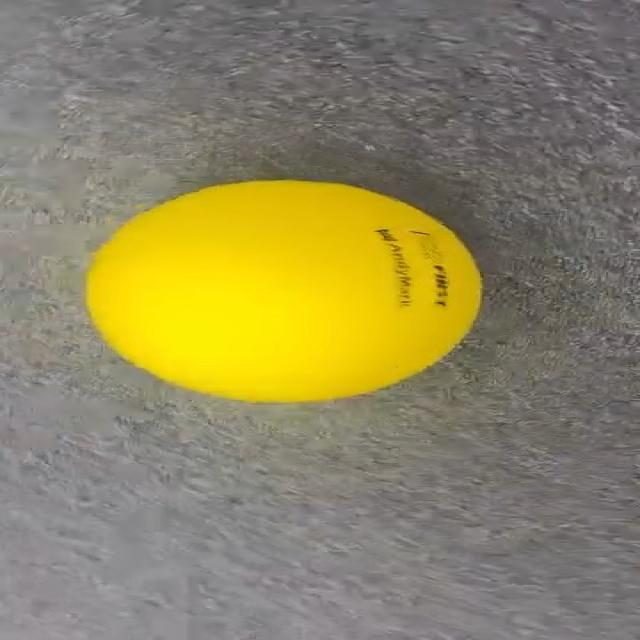Fuels: (89, 181, 478, 400)
